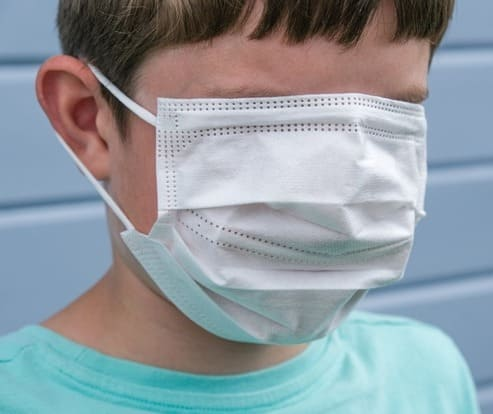with_incorrect_mask: (111, 0, 428, 344)
